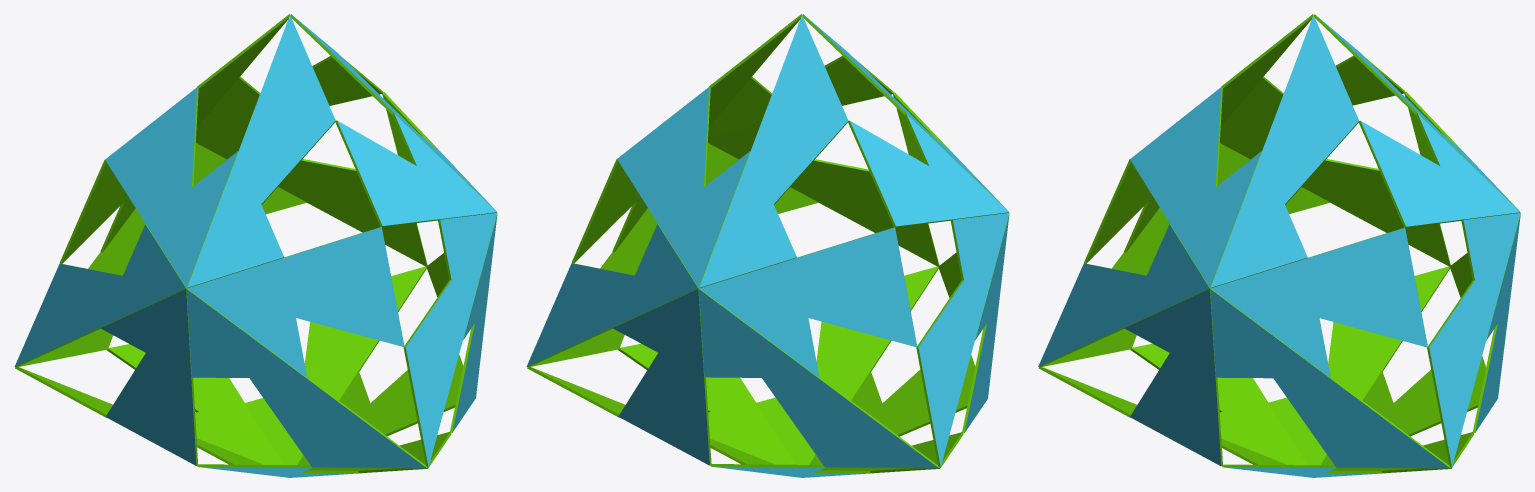
The model's file is HexakisTetrahedronS.glb.
The picture shows the model from 3 angles, left to right: view 1: azimuth 30°, elevation 25°; view 2: azimuth 150°, elevation 25°; view 3: azimuth 270°, elevation 25°; orthographic projection.
Visible parts, largest first — view 1: Mesh_0001_1, Mesh_0001; view 2: Mesh_0001_1, Mesh_0001; view 3: Mesh_0001_1, Mesh_0001.
Part boxes in pixels (box(x1,y1,x2,y2)): Mesh_0001_1: box(14, 15, 497, 477); Mesh_0001: box(15, 14, 497, 473); Mesh_0001_1: box(526, 15, 1009, 477); Mesh_0001: box(527, 14, 1009, 473); Mesh_0001_1: box(1038, 15, 1520, 477); Mesh_0001: box(1038, 14, 1520, 473).
Size of the model in its own units: 8.87 by 9.48 by 8.95.
